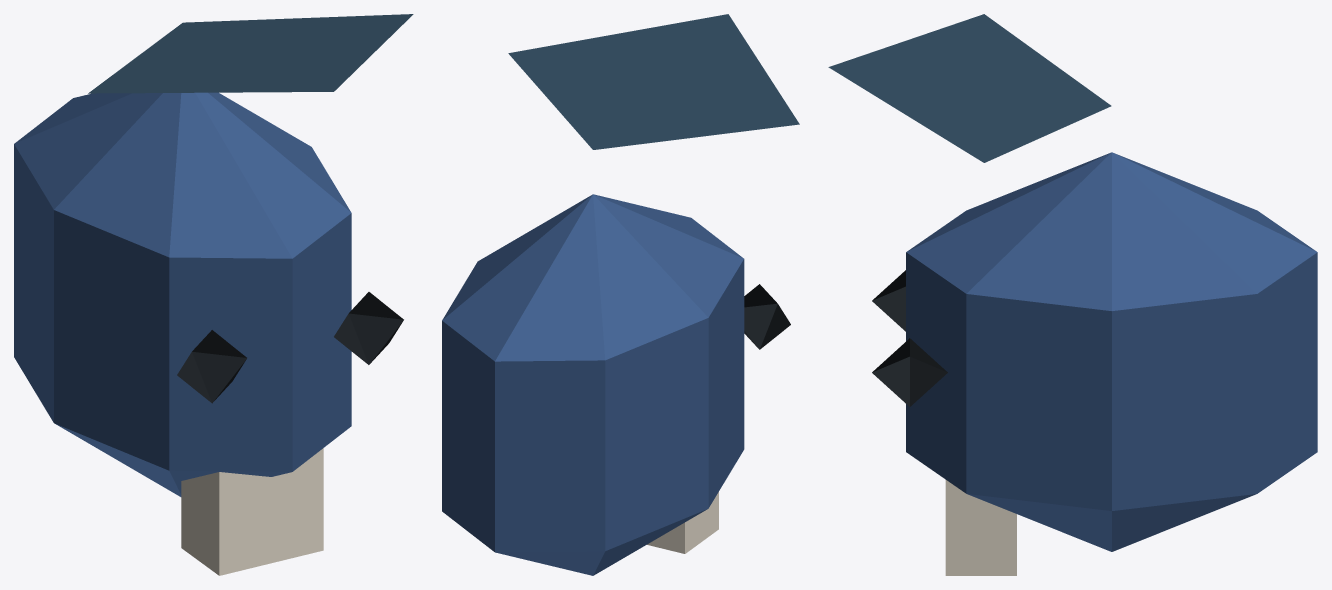
Rendered from fish_tuna.glb.
The picture shows the model from 3 angles, left to right: view 1: azimuth 30°, elevation 25°; view 2: azimuth 150°, elevation 25°; view 3: azimuth 270°, elevation 25°; orthographic projection. The views are drawn at different scales.
Parts seen in each view (by area): view 1: fish_tuna; view 2: fish_tuna; view 3: fish_tuna.
Part boxes in pixels (x1,y1,x2,y2): fish_tuna: (14, 14, 413, 575); fish_tuna: (442, 14, 799, 575); fish_tuna: (828, 14, 1317, 575).
Size of the model in its own units: 0.6598 by 1 by 0.9146.
